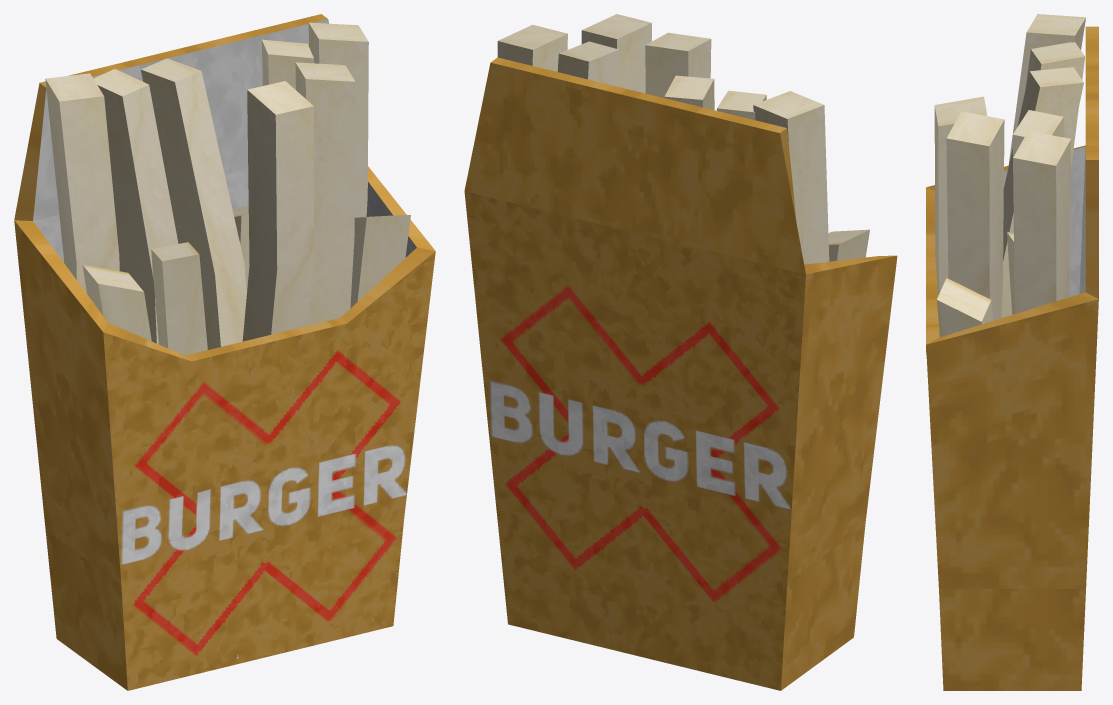
File: FriesHolder.fbx
The picture shows the model from 3 angles, left to right: view 1: azimuth 30°, elevation 25°; view 2: azimuth 150°, elevation 25°; view 3: azimuth 270°, elevation 25°; orthographic projection. The views are drawn at different scales.
Visible parts, largest first — view 1: FriesHolder, FriesInHolder; view 2: FriesHolder, FriesInHolder; view 3: FriesHolder, FriesInHolder.
Boxes of the visible parts, x1,y1,x2,y2 form: FriesHolder: [14, 14, 435, 690]; FriesInHolder: [45, 22, 410, 658]; FriesHolder: [464, 57, 897, 690]; FriesInHolder: [497, 14, 869, 264]; FriesHolder: [926, 26, 1098, 690]; FriesInHolder: [934, 14, 1085, 336].
Size of the model in its own units: 14.5 by 23.45 by 6.73.
